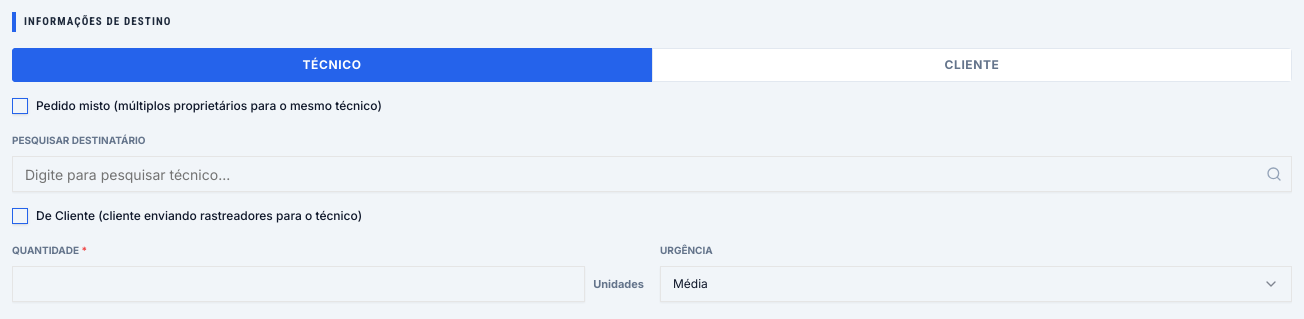
Test: NovoPedidoDestinoSection › modo Cliente: esconde pedido misto; persiste destinoCliente e reseta itensMisto para um item INFINITY
Click the button "Cliente".
click(972, 65)  # box [652, 48, 1292, 82]
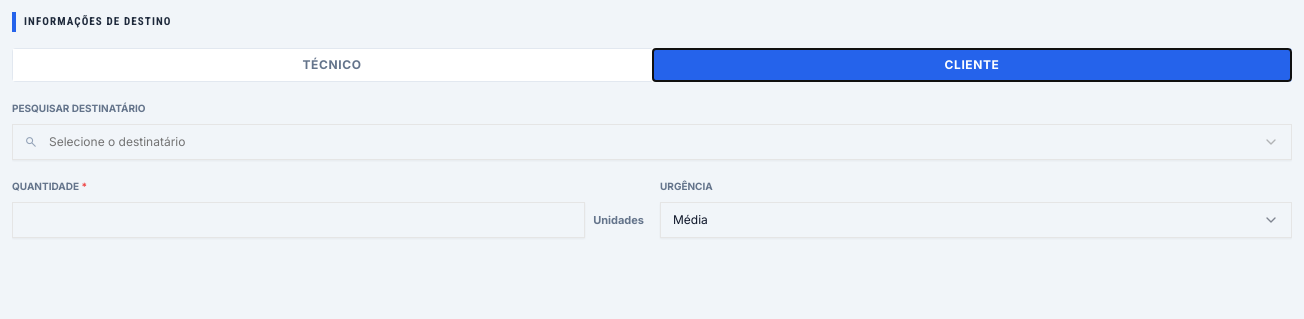
Result: the label "Pedido misto" is gone
Click the dropdown labelled "Selecione o destinatário".
click(117, 142)  # box [12, 124, 1292, 160]
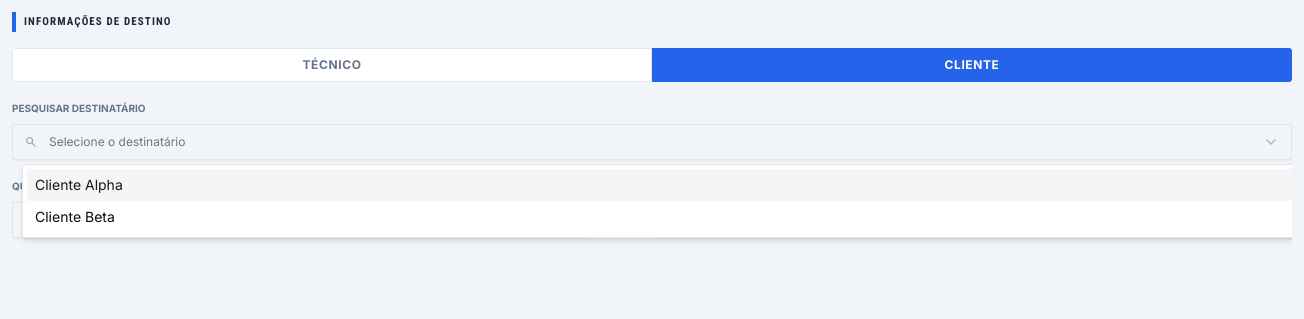
Click the option "Cliente Alpha".
click(79, 184)  # box [27, 169, 1292, 201]
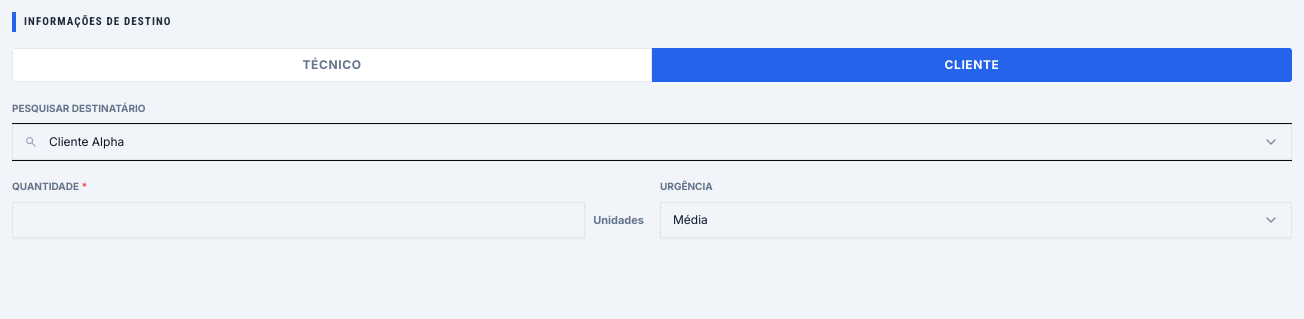
Result: the dropdown labelled "Cliente Alpha" is shown at [12, 124, 1292, 160]
